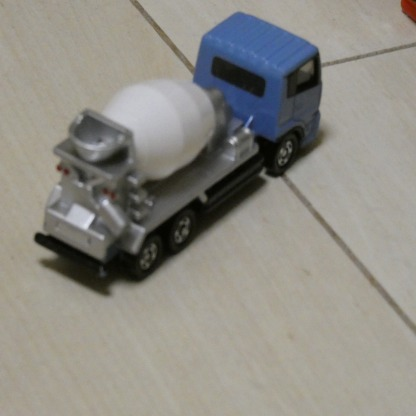car: (37, 8, 322, 285)
